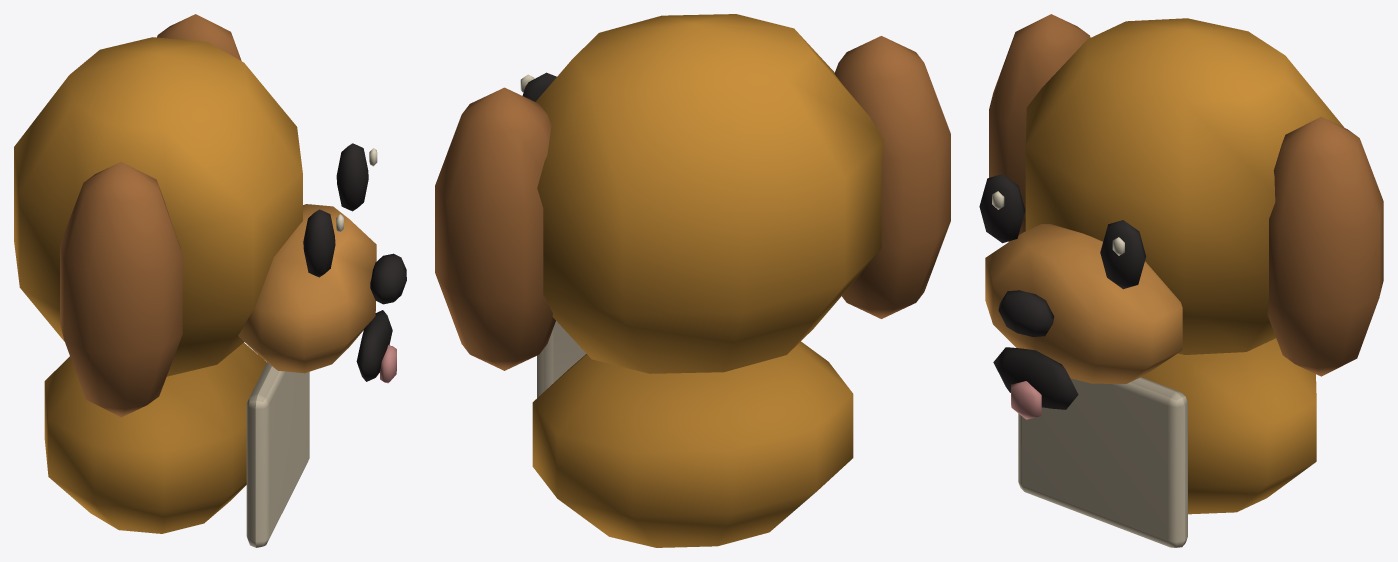
File: barkbq_speedway.glb
3 renders of one model, left to right at view 1: azimuth 30°, elevation 25°; view 2: azimuth 150°, elevation 25°; view 3: azimuth 270°, elevation 25°, orthographic. The views are drawn at different scales.
Parts seen in each view (by area): view 1: retriever head, shoulders; view 2: retriever head, shoulders; view 3: retriever head, shoulders.
Part boxes in pixels (box(x1,y1,x2,y2)): retriever head: box(14, 14, 406, 417); shoulders: box(44, 343, 309, 547); retriever head: box(435, 14, 950, 373); shoulders: box(532, 321, 853, 547); retriever head: box(979, 14, 1383, 419); shoulders: box(1018, 338, 1316, 547).
Bounding box in the file's own units: 0.4227 × 0.54 × 0.4227.
